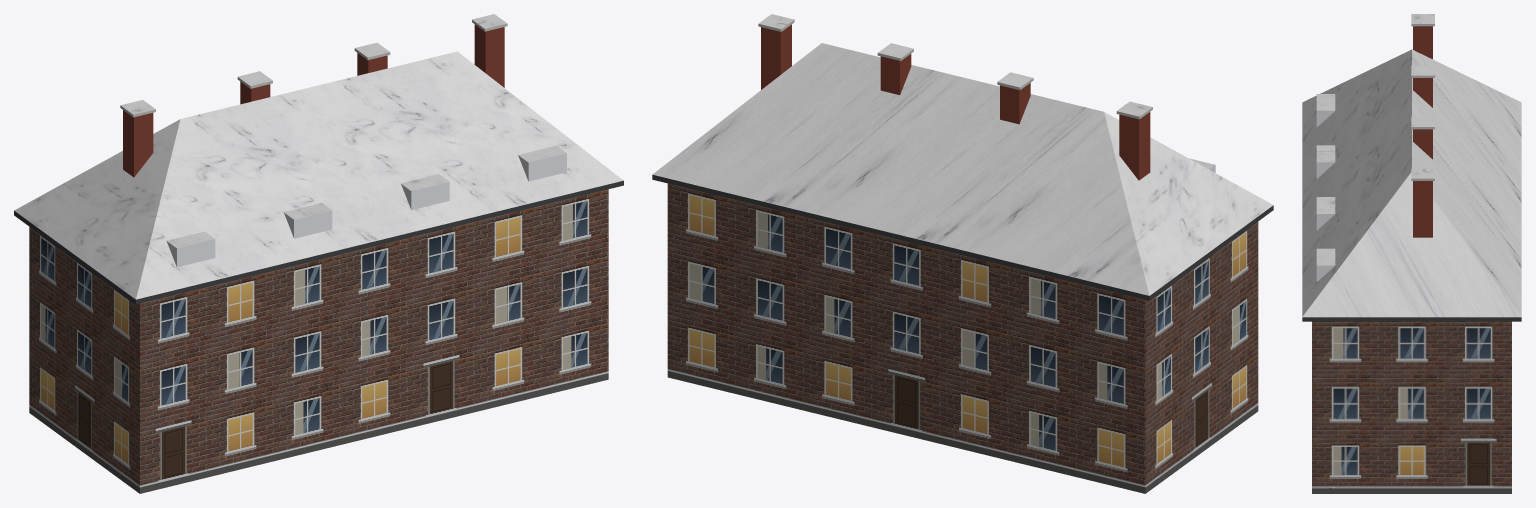
The model's file is c_rowhouse.glb.
3 renders of one model, left to right at view 1: azimuth 30°, elevation 25°; view 2: azimuth 150°, elevation 25°; view 3: azimuth 270°, elevation 25°, orthographic. The views are drawn at different scales.
Visible parts, largest first — view 1: House; view 2: House; view 3: House.
Boxes of the visible parts, box(x1,y1,x2,y2) form: House: box(14, 14, 623, 493); House: box(652, 14, 1273, 493); House: box(1302, 14, 1521, 493).
Bounding box in the file's own units: 22.9 × 14.67 × 9.9.
Materials: 3 (3 with a texture image).
